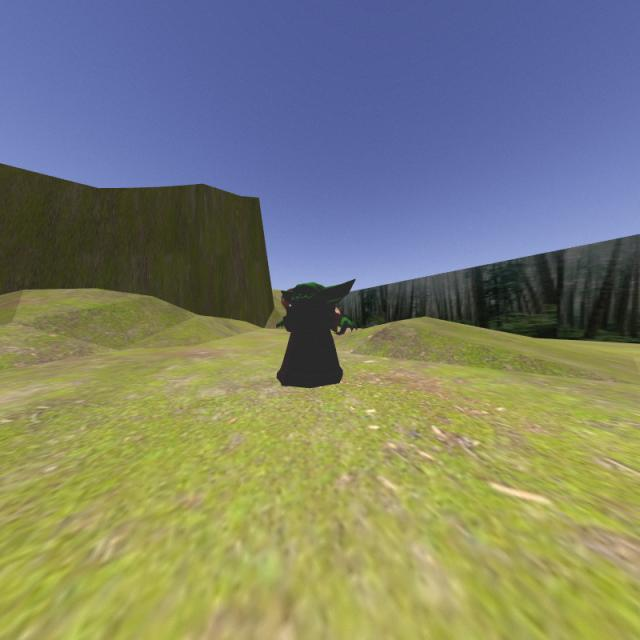yoda: (273, 271, 361, 388)
